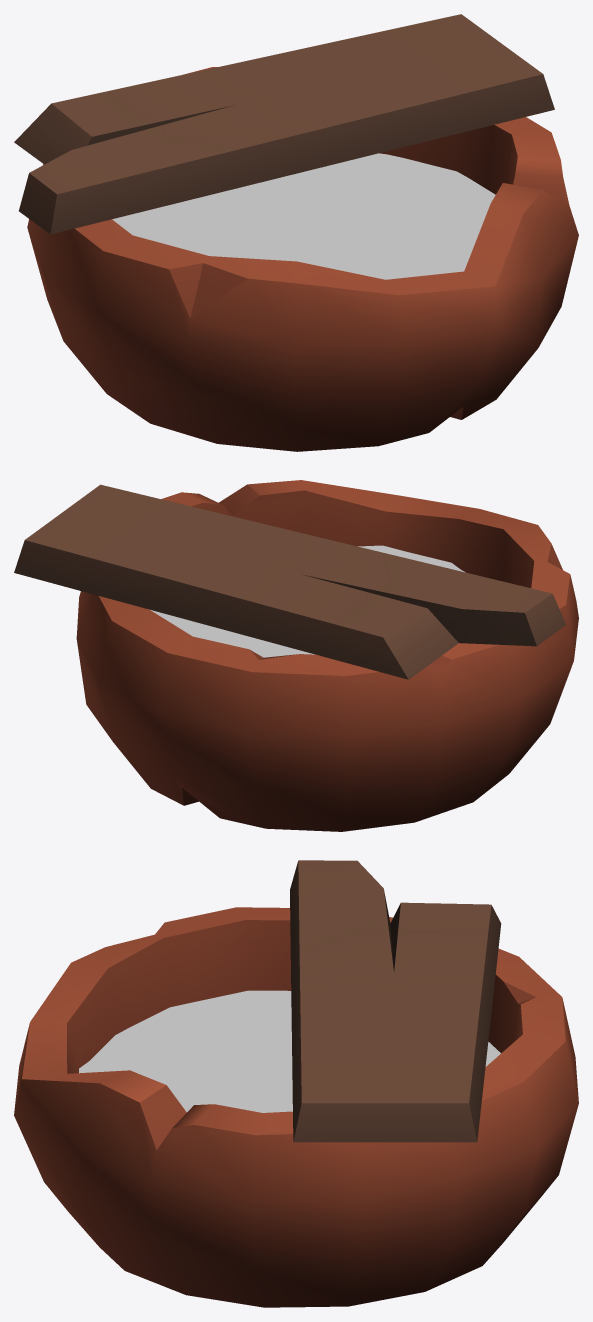
Rendered from Tannery_Bowl_1D.fbx.
The picture shows the model from 3 angles, top to bottom: view 1: azimuth 30°, elevation 25°; view 2: azimuth 150°, elevation 25°; view 3: azimuth 270°, elevation 25°; orthographic projection. The views are drawn at different scales.
Parts seen in each view (by area): view 1: Tannery_Bowl_1D; view 2: Tannery_Bowl_1D; view 3: Tannery_Bowl_1D.
Boxes of the visible parts, box(x1,y1,x2,y2) form: Tannery_Bowl_1D: box(14, 14, 578, 451); Tannery_Bowl_1D: box(14, 480, 578, 831); Tannery_Bowl_1D: box(14, 860, 578, 1307).
Size of the model in its own units: 154 by 66.59 by 146.
